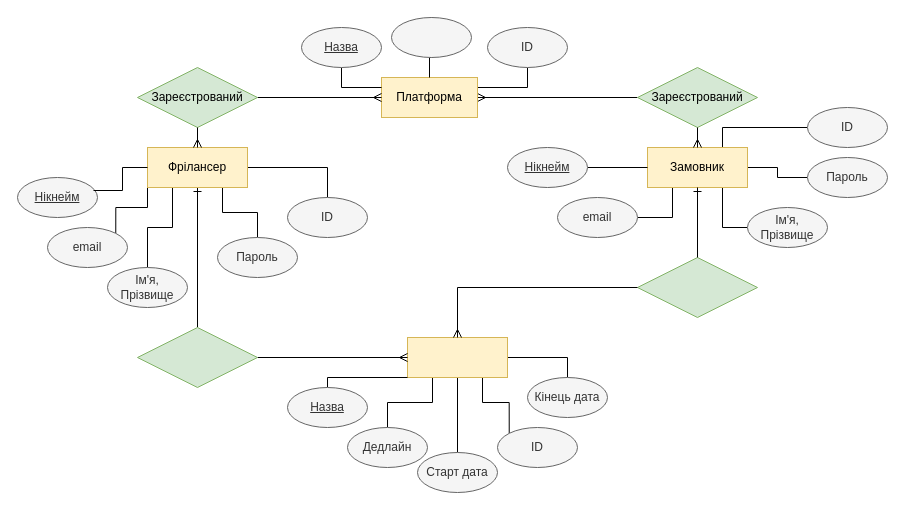
Some shapes in this 905 by 510 pixel diagram are drawn without their labels. The shapes that lost their labels are listed below. From the top down, each one's centre as x and y in pixels, then its label:
At (x=431, y=37): "Дата створення".
At (x=697, y=287): "Створив".
At (x=197, y=357): "Виконує".
At (x=457, y=357): "Проект".
